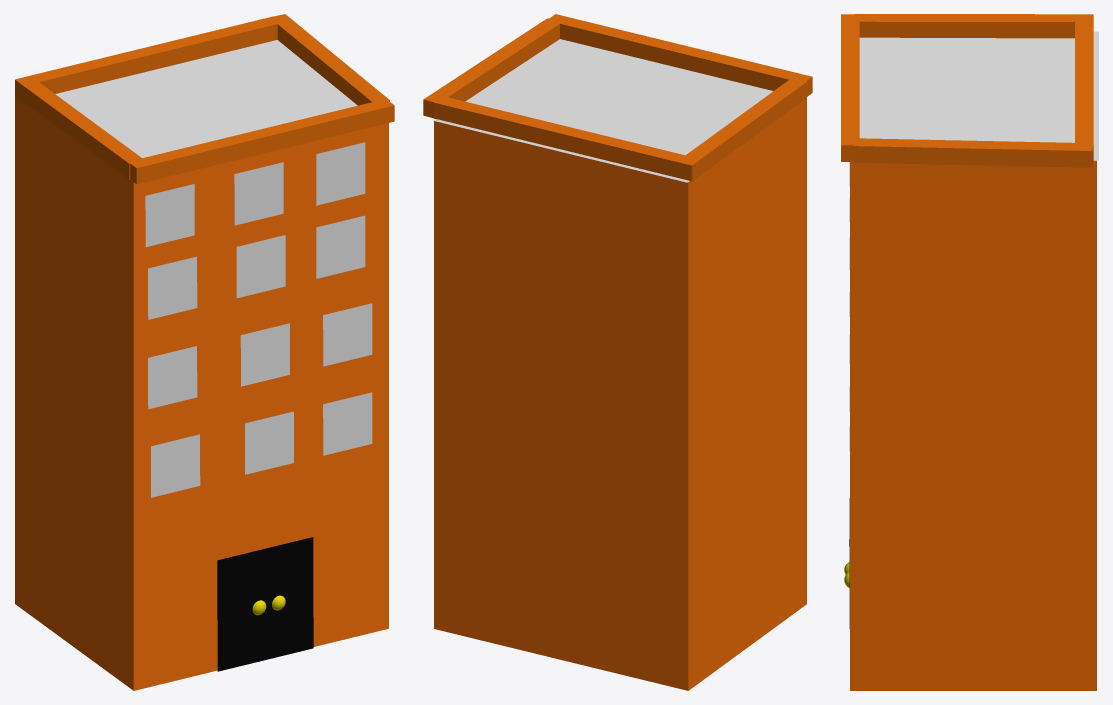
The model's file is building improved.fbx.
3 renders of one model, left to right at view 1: azimuth 30°, elevation 25°; view 2: azimuth 150°, elevation 25°; view 3: azimuth 270°, elevation 25°, orthographic. The views are drawn at different scales.
Parts seen in each view (by area): view 1: Cube, Plane.014, Cube.001, Cube.002, Plane.012, Plane.013, Cube.004, Cube.003, Plane.001, Plane.002, Plane.009, Plane (+8 smaller); view 2: Cube, Plane.014, Cube.002, Cube.001, Cube.004, Cube.003; view 3: Cube, Plane.014, Cube.003, Cube.004, Cube.001, Cube.002.
Part boxes in pixels (left/top/right/bottom): Cube: left=15, top=96, right=388, bottom=690; Plane.014: left=14, top=40, right=357, bottom=157; Cube.001: left=129, top=100, right=394, bottom=184; Cube.002: left=15, top=16, right=281, bottom=93; Plane.012: left=217, top=548, right=266, bottom=671; Plane.013: left=266, top=537, right=313, bottom=659; Cube.004: left=15, top=76, right=143, bottom=179; Cube.003: left=273, top=14, right=389, bottom=105; Plane.001: left=234, top=162, right=283, bottom=225; Plane.002: left=316, top=142, right=365, bottom=205; Plane.009: left=323, top=392, right=372, bottom=455; Plane: left=145, top=184, right=194, bottom=247; Cube: left=434, top=98, right=806, bottom=690; Plane.014: left=434, top=39, right=773, bottom=182; Cube.002: left=434, top=96, right=699, bottom=181; Cube.001: left=549, top=14, right=812, bottom=96; Cube.004: left=677, top=78, right=806, bottom=181; Cube.003: left=423, top=18, right=559, bottom=118; Cube: left=850, top=160, right=1096, bottom=690; Plane.014: left=859, top=31, right=1098, bottom=160; Cube.003: left=854, top=138, right=1092, bottom=167; Cube.004: left=854, top=14, right=1092, bottom=38; Cube.001: left=841, top=14, right=859, bottom=161; Cube.002: left=1075, top=14, right=1093, bottom=161.
Bounding box in the file's own units: 3508 × 6529 × 2787.
